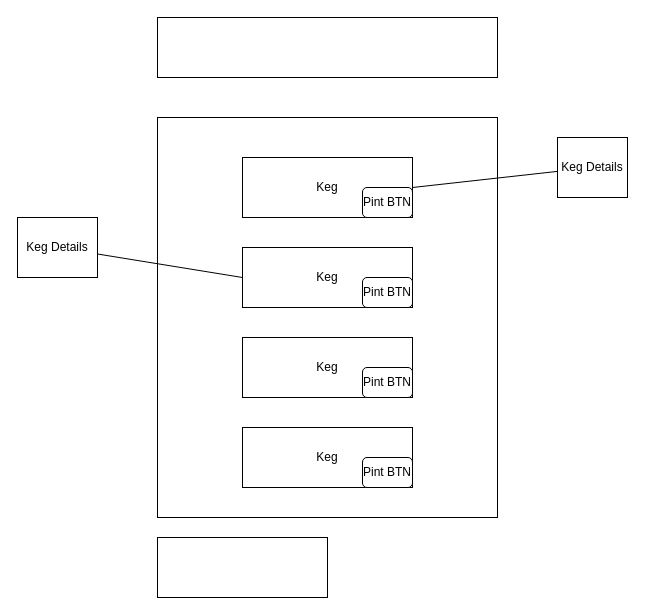
The diagram is 645 pixels wide and 615 high, and some of its shapes have lost their labels. Here are the shapes that lost their labels. From the top down, the box of each, then its label:
(156, 16, 498, 78): Header
(156, 116, 498, 518): List of Kegs
(156, 536, 328, 598): Add Keg BTN
